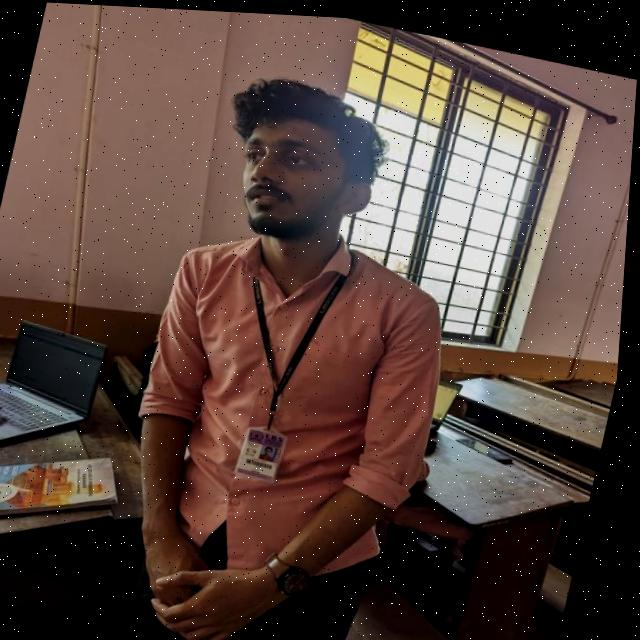id_card: (204, 239, 359, 494)
